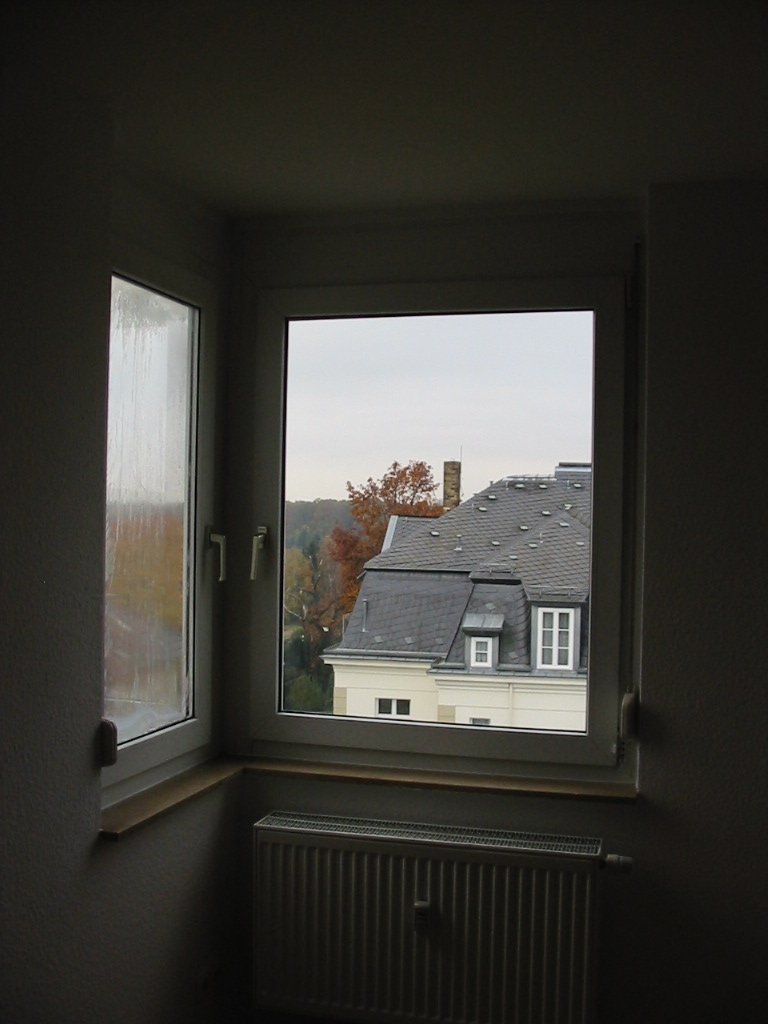windows: (108, 252, 634, 807)
